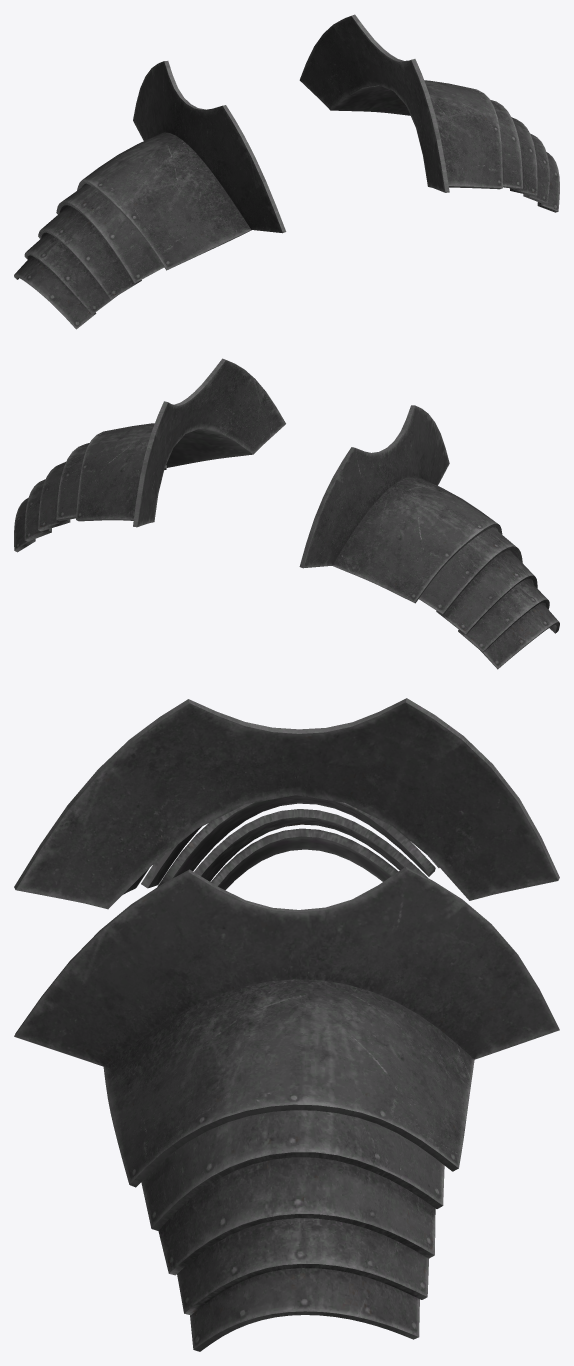
Rendered from sk_uruk_hai_pauldron_heavy_b1.fbx.
The picture shows the model from 3 angles, top to bottom: view 1: azimuth 30°, elevation 25°; view 2: azimuth 150°, elevation 25°; view 3: azimuth 270°, elevation 25°; orthographic projection. The views are drawn at different scales.
Parts seen in each view (by area): view 1: sk_uruk_hai_pauldron_heavy_b1; view 2: sk_uruk_hai_pauldron_heavy_b1; view 3: sk_uruk_hai_pauldron_heavy_b1.
Part boxes in pixels (x1,y1,x2,y2): sk_uruk_hai_pauldron_heavy_b1: [14, 14, 559, 329]; sk_uruk_hai_pauldron_heavy_b1: [14, 358, 559, 669]; sk_uruk_hai_pauldron_heavy_b1: [14, 698, 559, 1351].
Bounding box in the file's own units: 0.808 × 0.3968 × 0.2834.
1 material, 1 textured.
